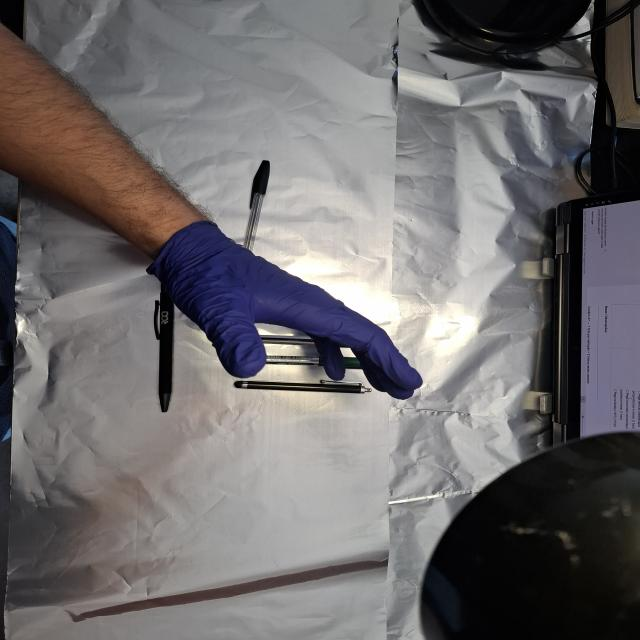glove_on: (145, 217, 426, 404)
